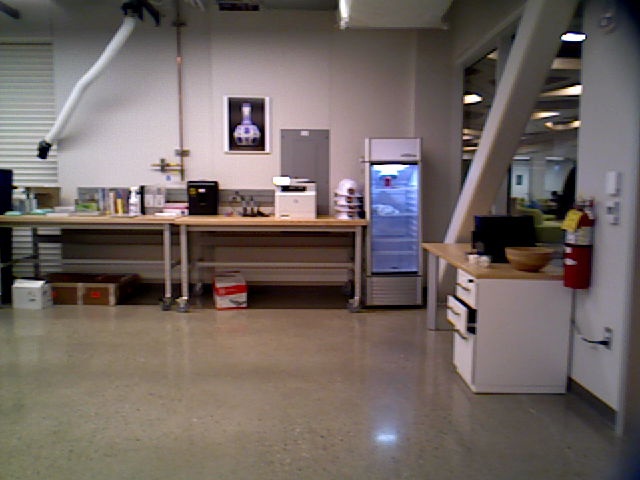painting2: (224, 92, 273, 157)
